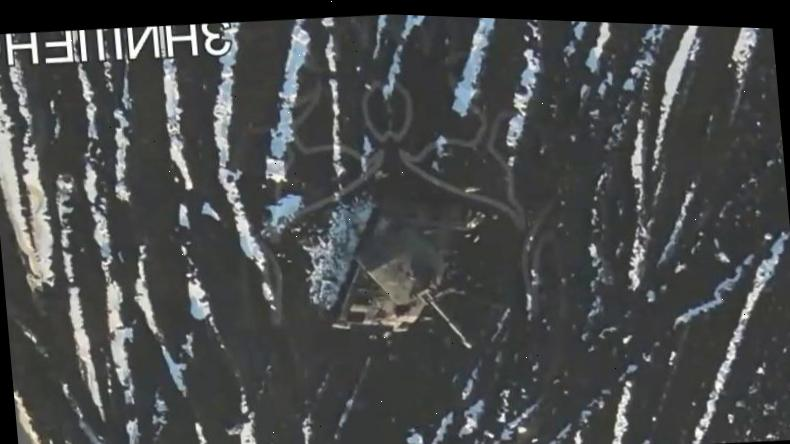sau: (320, 190, 473, 361)
